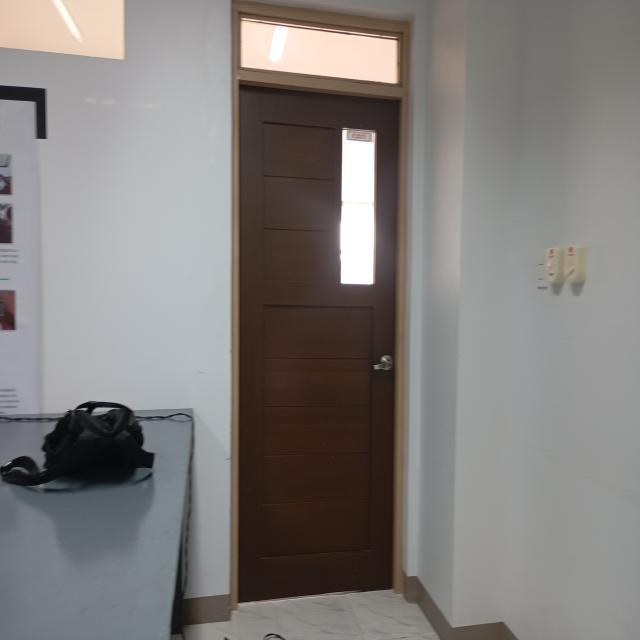door: (228, 0, 424, 618)
